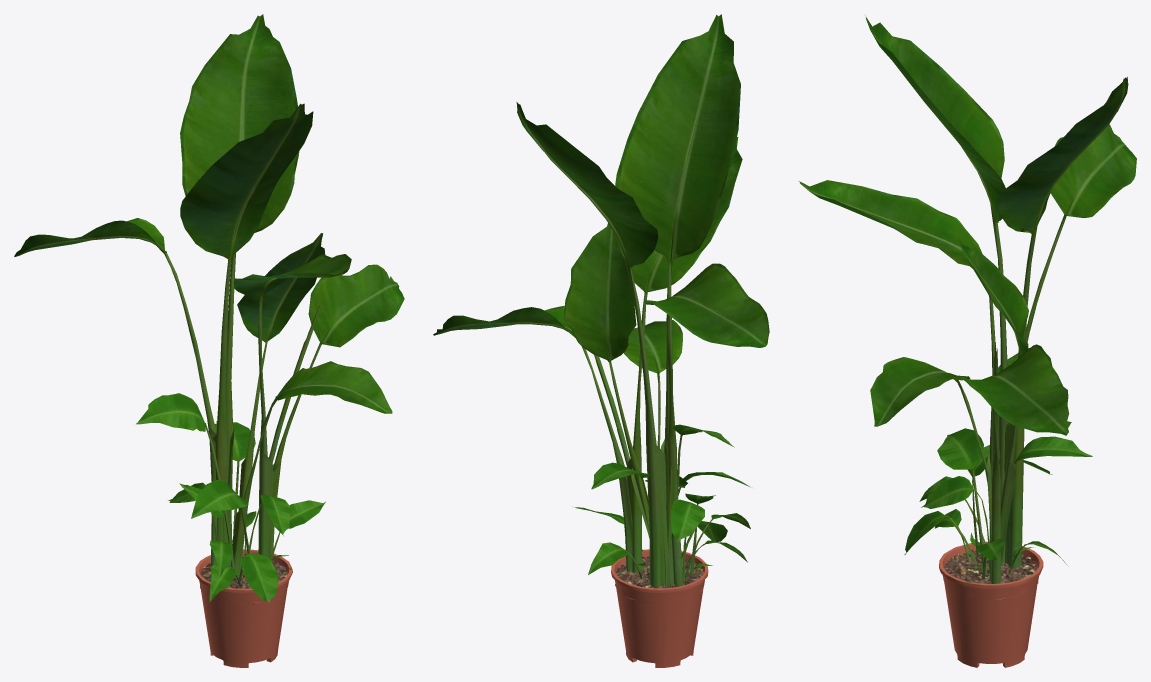
Rendered from Plant1.glb.
3 renders of one model, left to right at view 1: azimuth 30°, elevation 25°; view 2: azimuth 150°, elevation 25°; view 3: azimuth 270°, elevation 25°, orthographic. The views are drawn at different scales.
Visible parts, largest first — view 1: Mesh_0; view 2: Mesh_0; view 3: Mesh_0.
Part boxes in pixels (x1,y1,x2,y2): Mesh_0: (14,14,404,667); Mesh_0: (433,14,769,667); Mesh_0: (799,15,1136,667).
Size of the model in its own units: 1.12 by 1.78 by 0.8566.
1 material, 1 textured.
